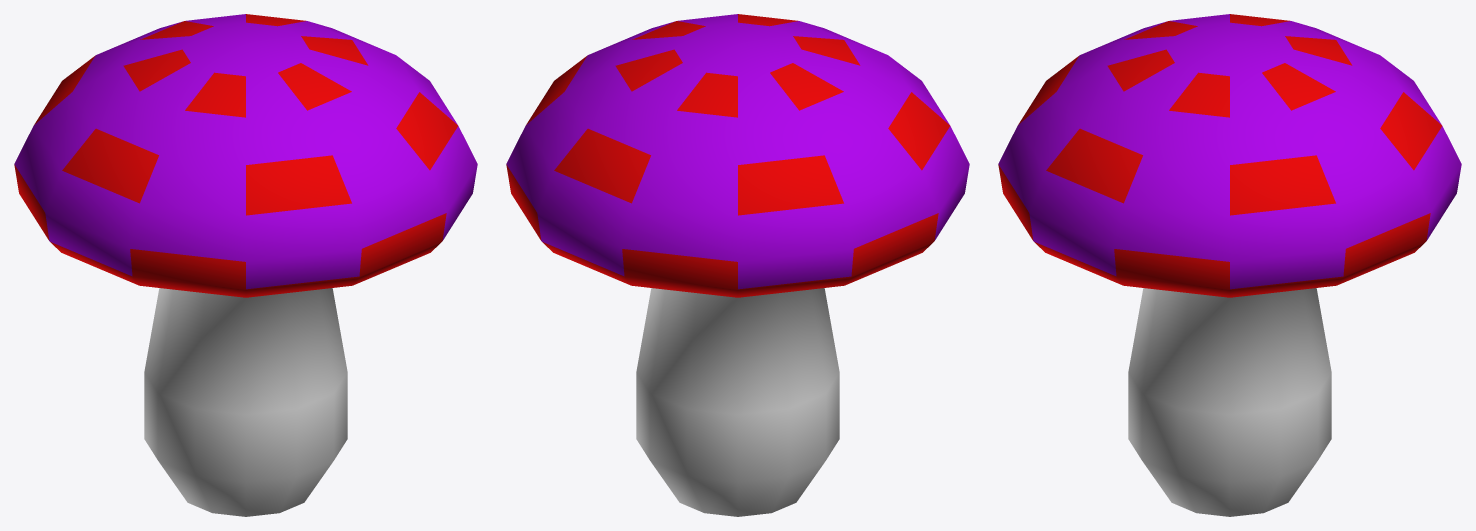
The model's file is mushroom.fbx.
3 renders of one model, left to right at view 1: azimuth 30°, elevation 25°; view 2: azimuth 150°, elevation 25°; view 3: azimuth 270°, elevation 25°, orthographic.
Visible parts, largest first — view 1: Sphere; view 2: Sphere; view 3: Sphere.
Part boxes in pixels (<box>): Sphere: <box>14,14,477,516</box>; Sphere: <box>506,14,969,516</box>; Sphere: <box>998,14,1461,516</box>.
Bounding box in the file's own units: 47.24 × 50 × 47.24.
